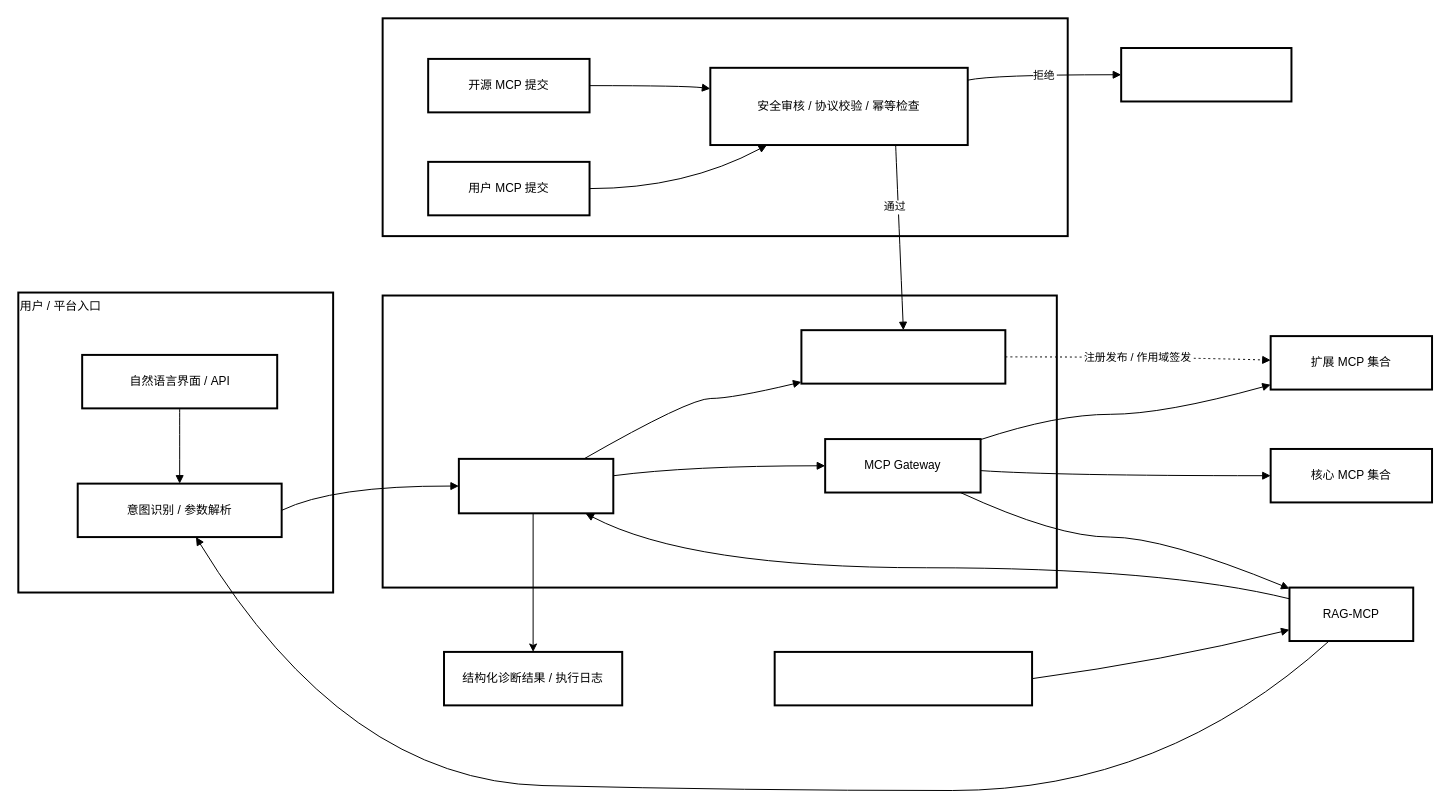
This 1449x808 diagram has some shape labels left out. Here are the shapes that lost their labels. From the top down, the box of each, then its label:
(1120, 47, 1292, 102): 退回与整改建议
(381, 17, 1068, 237): 生态共建入口
(800, 329, 1006, 384): Tool Registry / RBAC
(381, 294, 1057, 588): 编排与网关
(457, 457, 614, 514): 流程编排引擎
(773, 650, 1033, 706): 知识域：意图 / 流程 / SOP / 工具规范
